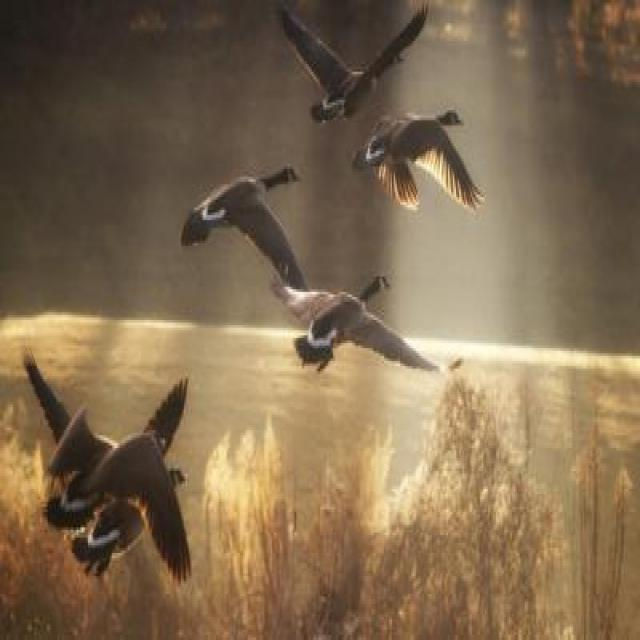birds: (31, 370, 200, 594), (269, 264, 468, 388), (172, 152, 315, 303), (270, 0, 428, 133), (352, 101, 491, 219)
